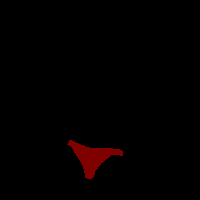mutande: (67, 139, 123, 179)
